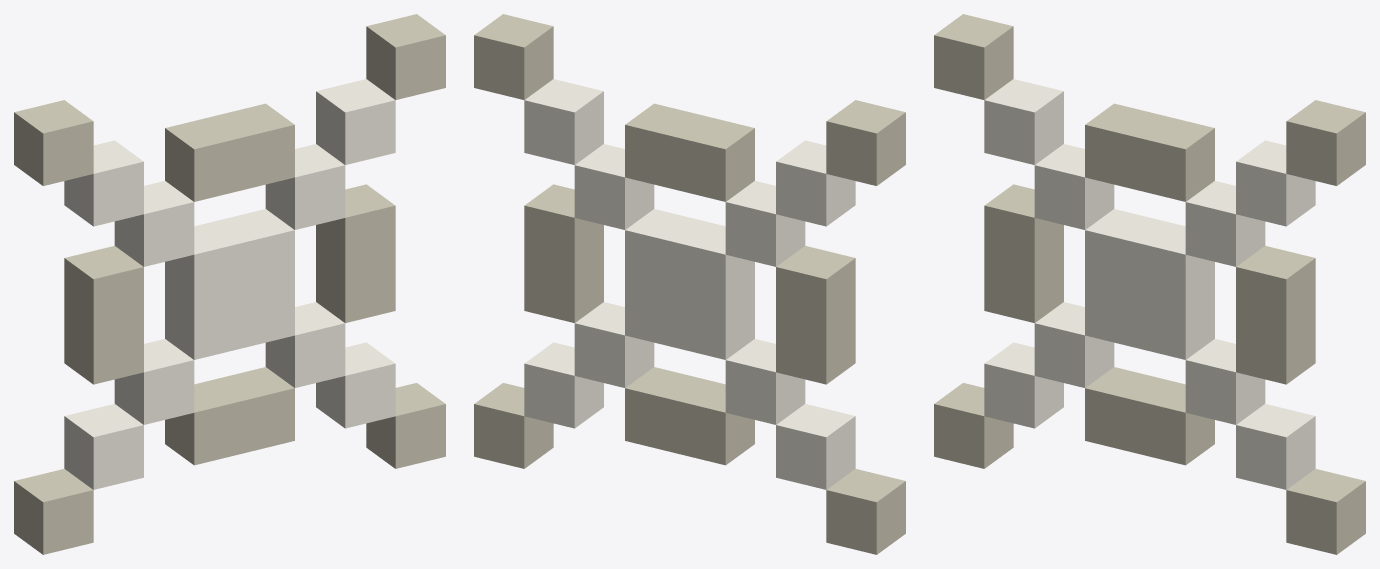
Rendered from Cobweb.glb.
The picture shows the model from 3 angles, left to right: view 1: azimuth 30°, elevation 25°; view 2: azimuth 150°, elevation 25°; view 3: azimuth 330°, elevation 25°; orthographic projection.
Visible parts, largest first — view 1: generated(Clone); view 2: generated(Clone); view 3: generated(Clone).
Boxes of the visible parts, left/top/right/bottom form: generated(Clone): left=14, top=14, right=445, bottom=554; generated(Clone): left=474, top=14, right=905, bottom=554; generated(Clone): left=934, top=14, right=1365, bottom=554.
Bounding box in the file's own units: 8 × 8 × 1.
1 material, 1 textured.
